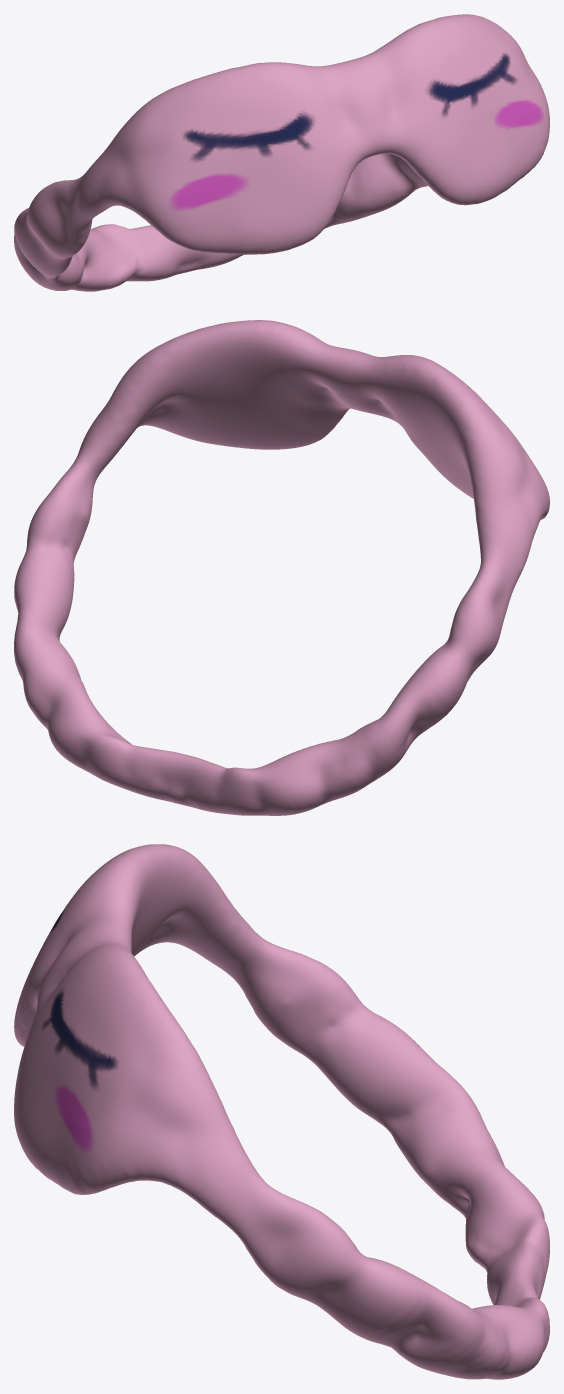
File: Eyemask.glb
The picture shows the model from 3 angles, top to bottom: view 1: azimuth 30°, elevation 25°; view 2: azimuth 150°, elevation 25°; view 3: azimuth 270°, elevation 25°; orthographic projection. The views are drawn at different scales.
Parts seen in each view (by area): view 1: Torus; view 2: Torus; view 3: Torus.
Boxes of the visible parts, x1,y1,x2,y2 form: Torus: (14,14,549,291); Torus: (14,320,549,815); Torus: (14,844,549,1379).
Size of the model in its own units: 0.9024 by 0.6496 by 0.749.
